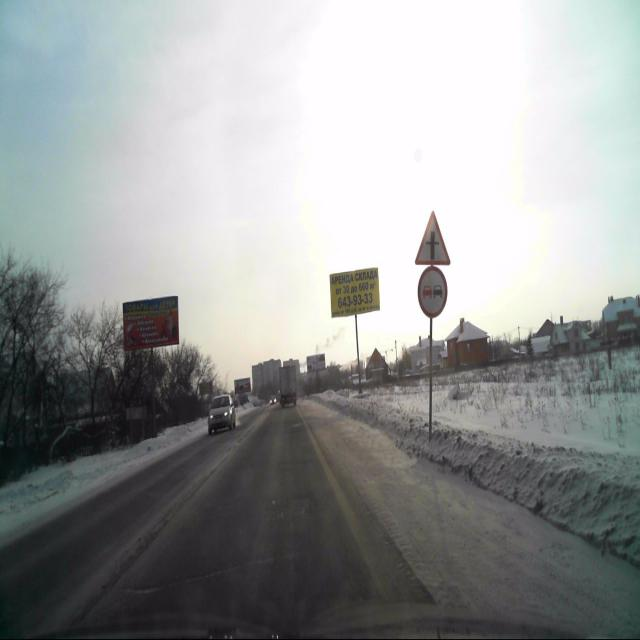object: (428, 319, 432, 441)
road sign: (414, 210, 450, 266)
